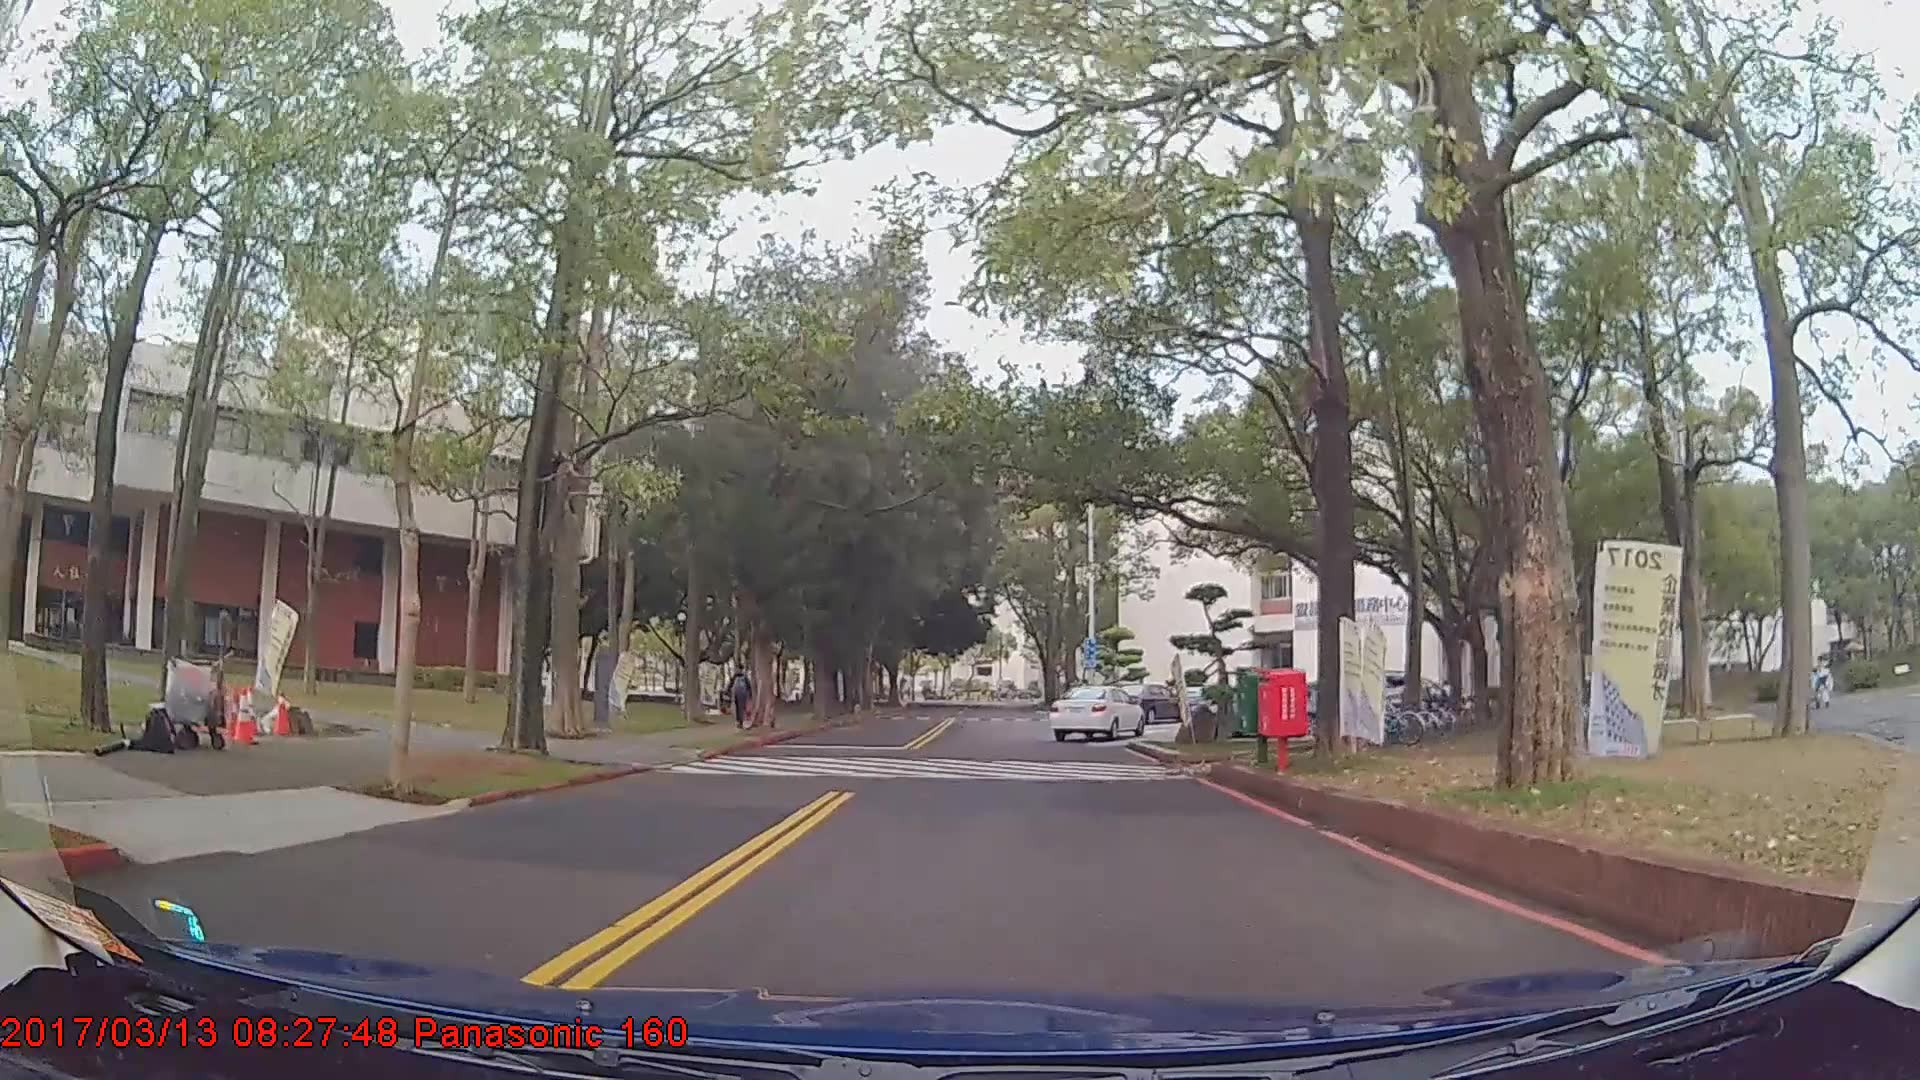pedestrian: (729, 667, 756, 732)
vehicle: (1049, 685, 1145, 742), (1107, 681, 1183, 724)
